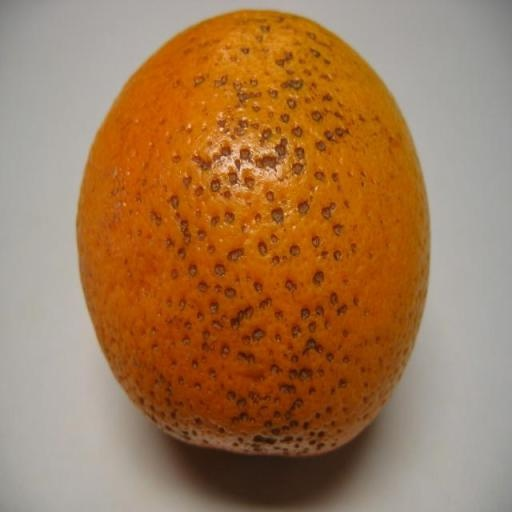fruit: (77, 12, 428, 455)
